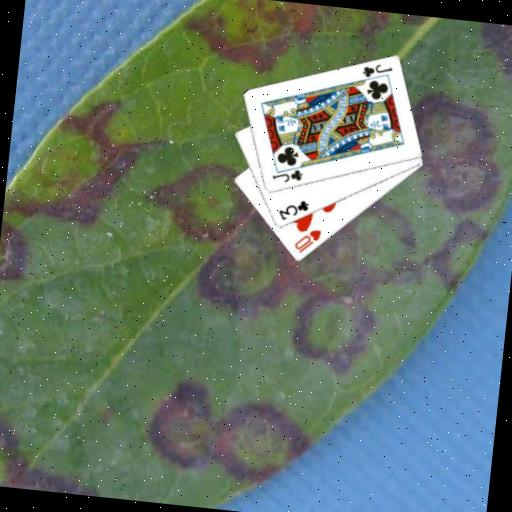10H: (291, 224, 323, 257)
3C: (275, 195, 311, 225)
JC: (269, 164, 305, 186), (359, 59, 395, 81)
